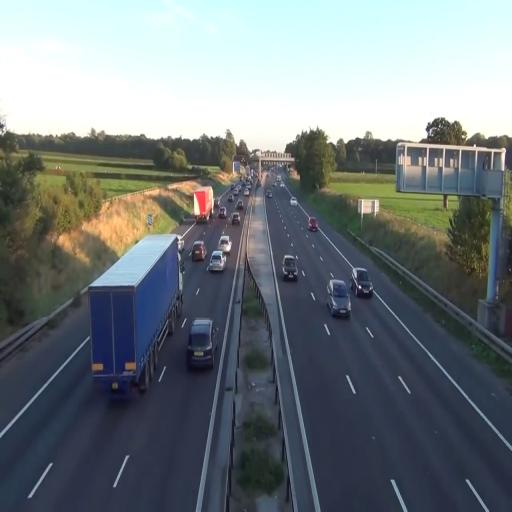vehicle: (88, 232, 182, 397), (88, 233, 181, 398), (186, 318, 215, 370), (327, 278, 351, 319), (193, 185, 214, 222), (352, 267, 374, 298), (281, 253, 299, 280), (207, 250, 226, 274), (192, 239, 206, 262), (218, 234, 231, 254), (308, 217, 318, 234)
